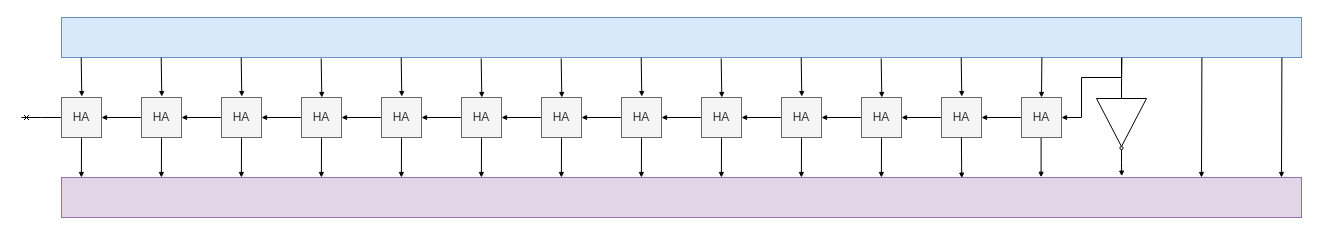
Some shapes in this 1319 by 235 pixel diagram are drawn without their labels. The centre of each missing label's shape, as x and y in pixels:
INPUT: point (681, 37)
OUTPUT: point (681, 197)
